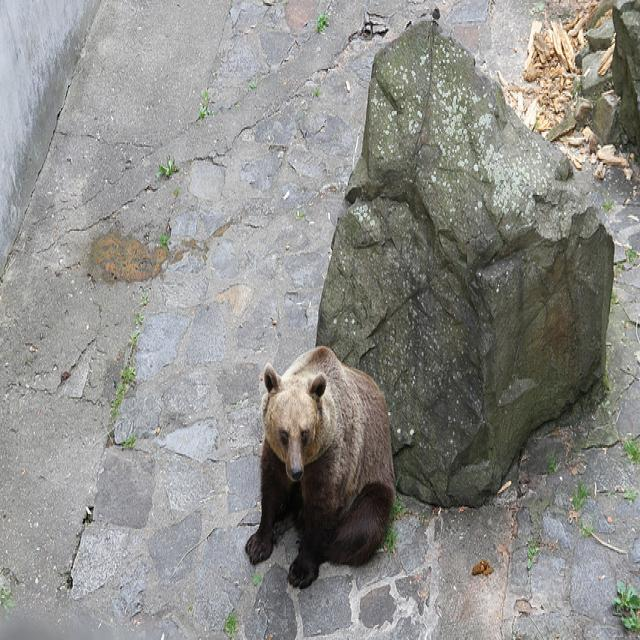Bear: (238, 343, 404, 595)
